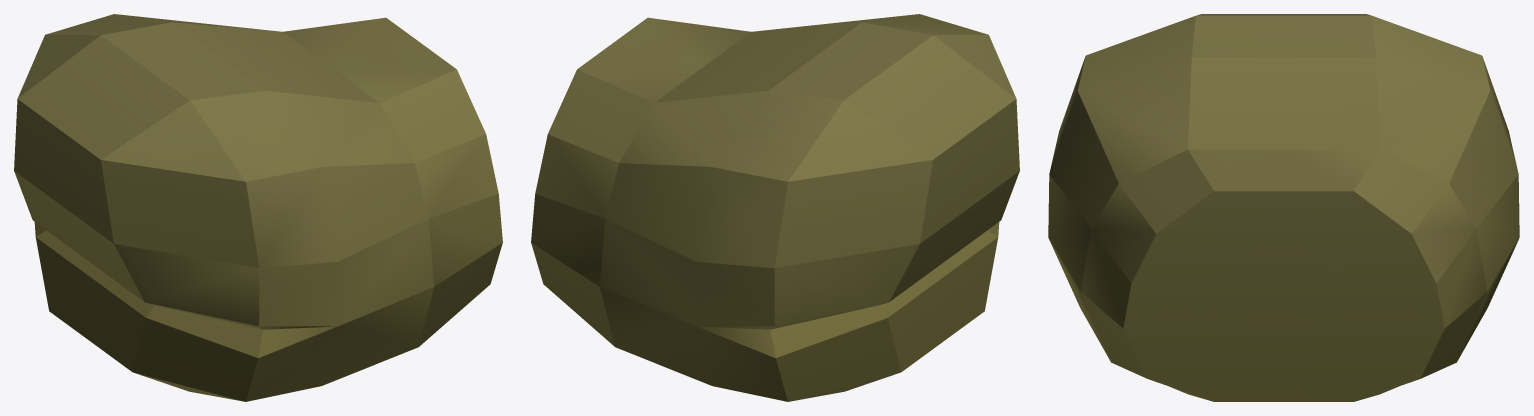
The model's file is SM_Turtle_Head.fbx.
The picture shows the model from 3 angles, left to right: view 1: azimuth 30°, elevation 25°; view 2: azimuth 150°, elevation 25°; view 3: azimuth 270°, elevation 25°; orthographic projection.
Visible parts, largest first — view 1: SM_Turtle_Head; view 2: SM_Turtle_Head; view 3: SM_Turtle_Head.
Boxes of the visible parts, left/top/right/bottom form: SM_Turtle_Head: left=14, top=14, right=502, bottom=401; SM_Turtle_Head: left=531, top=14, right=1019, bottom=401; SM_Turtle_Head: left=1048, top=14, right=1519, bottom=401.
Size of the model in its own units: 24.72 by 19.09 by 28.2.
